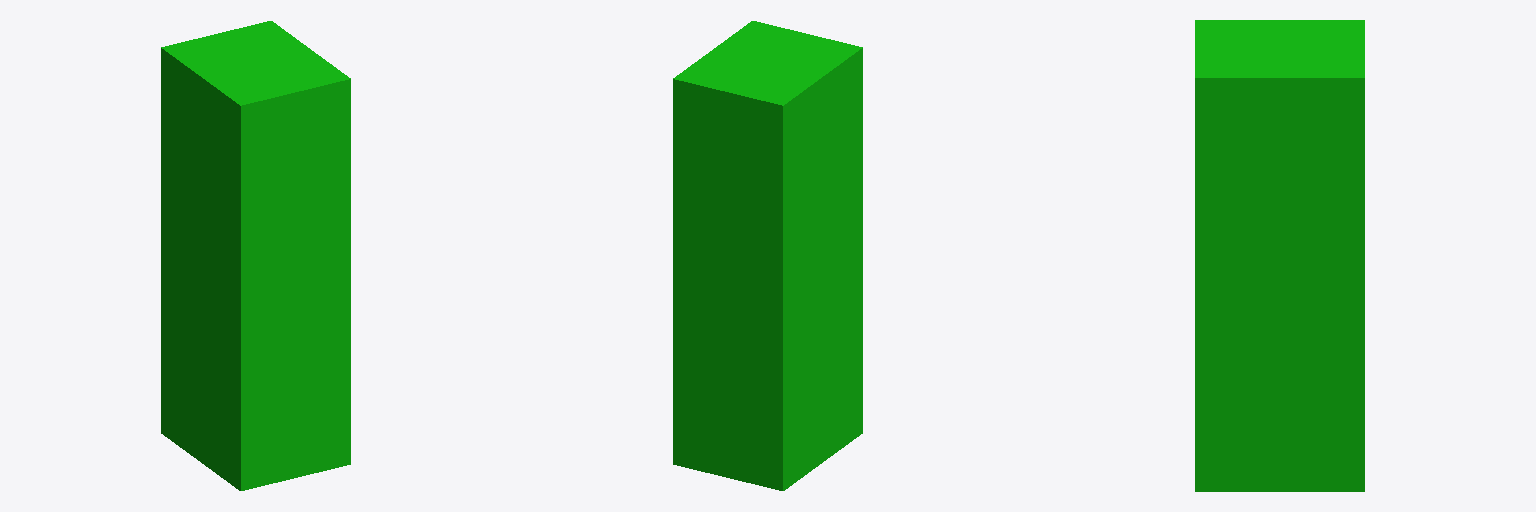
robot.urdf — simple_cuboid:
<?xml version="1.0"?>
<robot name="simple_cuboid">
  <link name="base_link">
    <inertial>
      <origin xyz="0 0 0" rpy="0 0 0" />
      <mass value="0.1" />
      <inertia ixx="0.000363" ixy="0" ixz="0" iyy="0.000363" iyz="0"
          izz="0.00006" />
    </inertial>
    <visual>
      <origin xyz="0 0 0" rpy="0 0 0" />
      <geometry>
        <box size="0.06 0.075 0.2" />
      </geometry>
      <material name="blue">
        <color rgba="0.1 0.8 0.1 0.9" />
      </material>
    </visual>

    <!--
      This places contact spheres on the corners of the visual box and a
      *slightly* smaller inset contact box (centered on the visual origin). This
      accounts for issues in the contact computation providing stable table
      contact *and* supports grasping.

      When the box is in stable contact with the ground plane, the corner
      spheres will provide fixed contact points (simulating distributed contact
      points around the face).  However, for arbitrary grip configuration, the
      slightly inset box will provide contact with a *slight* offset (in this
      case a deviation of 0.0005 m from the visual surface).
     -->
    <collision>
      <origin xyz="0 0 0" rpy="0 0 0" />
      <geometry>
        <mesh filename="file://[local-path]/ros_devel_ws/src/learn_affordance_tamp/tamp/examples/pybullet/utils/models/drake/objects/meiying_block_for_pick_and_place_mid_size.obj" />
      </geometry>
    </collision>

   </link>
</robot>

--- What the picture shows (computed from the rendered views, not written in the file) ---
The picture shows the robot from 3 angles, left to right: view 1: azimuth 30°, elevation 25°; view 2: azimuth 150°, elevation 25°; view 3: azimuth 270°, elevation 25°; orthographic projection.
Robot: simple_cuboid — 1 links, 0 joints (none); root link base_link; default pose: every joint at zero.
Links seen in each view (by area): view 1: base_link; view 2: base_link; view 3: base_link.
Boxes of the visible links, x1,y1,x2,y2 form: base_link: (161, 21, 350, 490); base_link: (673, 21, 862, 490); base_link: (1195, 20, 1364, 491).
Bounding box of the posed robot: 0.06 × 0.075 × 0.2 m (x, y, z).
Geometry: primitives only (box / cylinder / sphere), no mesh files.
